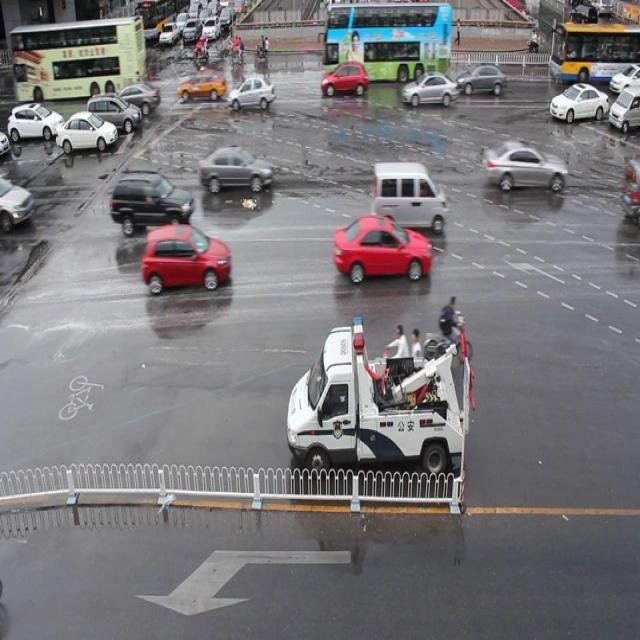car: (334, 214, 430, 283), (140, 222, 230, 290), (482, 138, 564, 194), (112, 171, 194, 227), (197, 143, 274, 194), (549, 81, 607, 124), (402, 72, 457, 108), (457, 61, 506, 98), (176, 68, 226, 104), (226, 73, 276, 108), (321, 62, 366, 98)
truck: (371, 159, 445, 232)
van: (324, 1, 451, 83), (550, 22, 640, 79)
